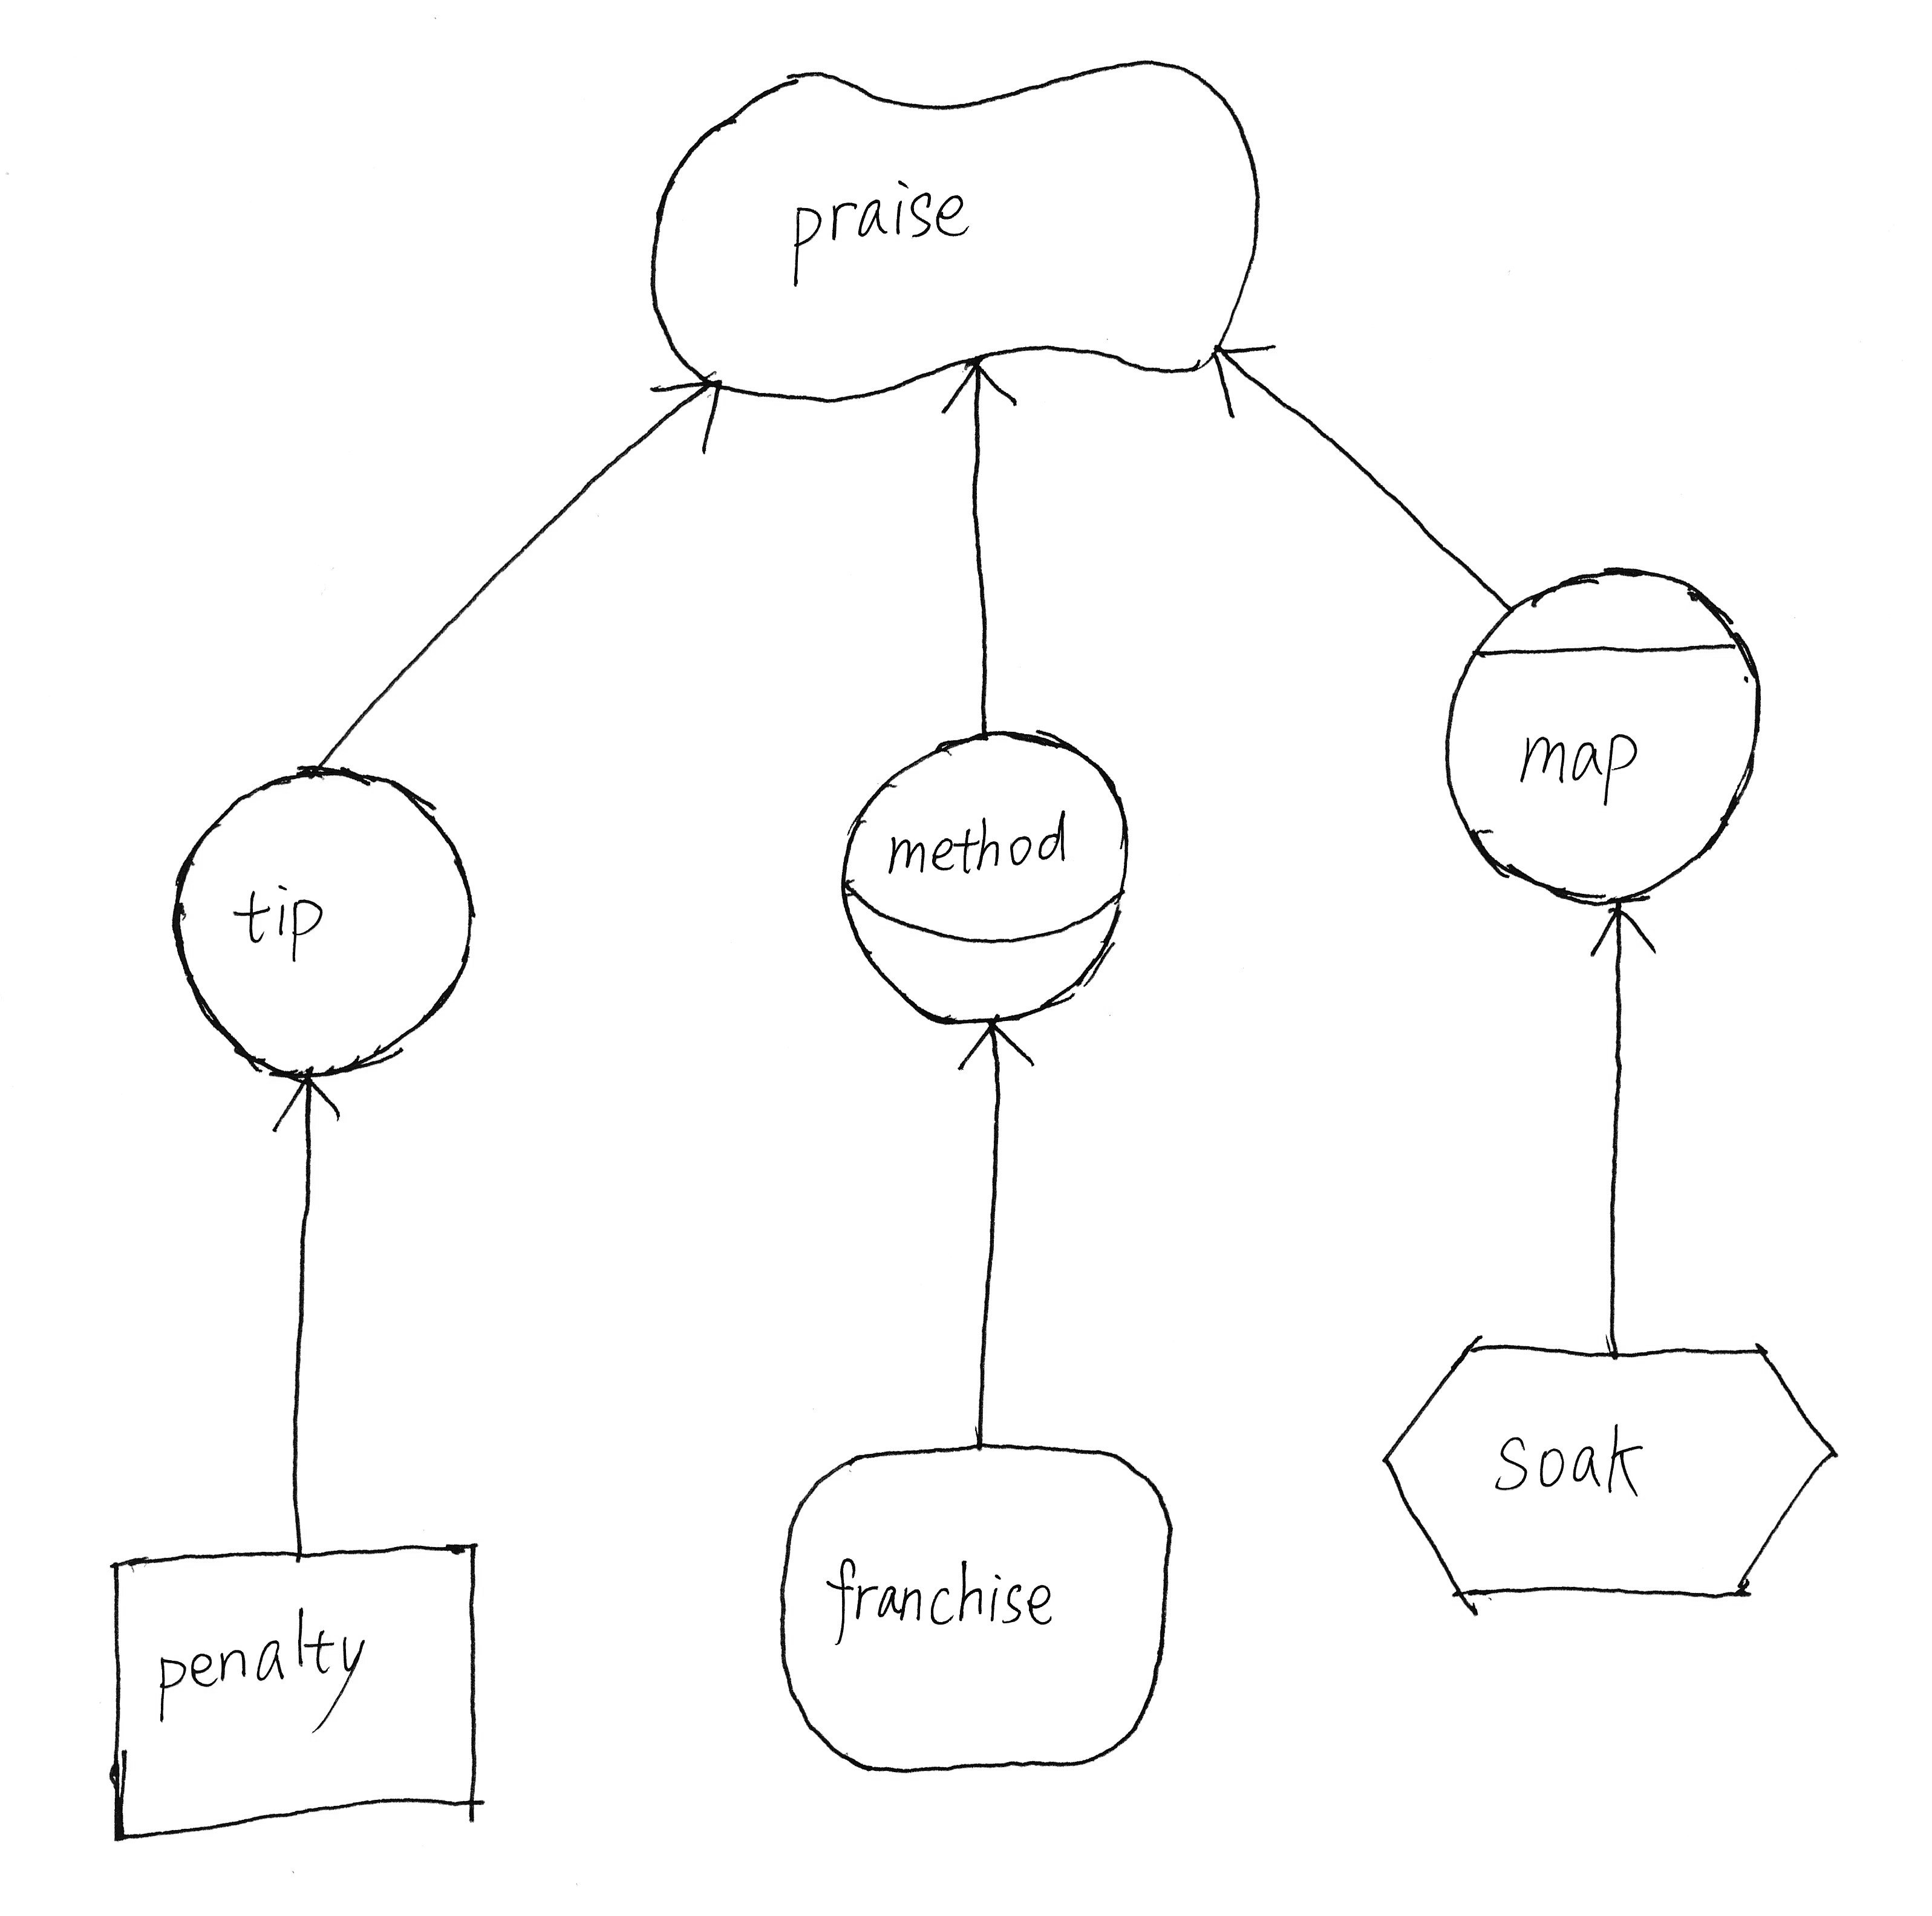actor: (151, 749, 497, 1111)
agent: (1421, 549, 1783, 921)
arrow: (1184, 325, 1307, 439), (640, 358, 749, 465), (934, 1000, 1044, 1100), (923, 337, 1030, 437), (251, 1060, 356, 1146), (1574, 888, 1674, 967)
goal: (749, 1405, 1200, 1797)
quality: (623, 39, 1286, 426)
resource: (70, 1518, 519, 1858)
role: (826, 712, 1144, 1044)
task: (1362, 1318, 1864, 1639)
